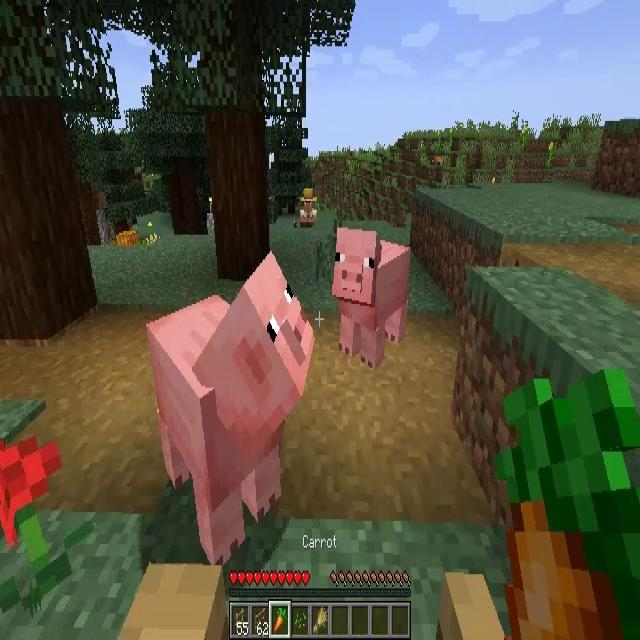pig: (148, 277, 302, 565), (335, 224, 412, 362)
